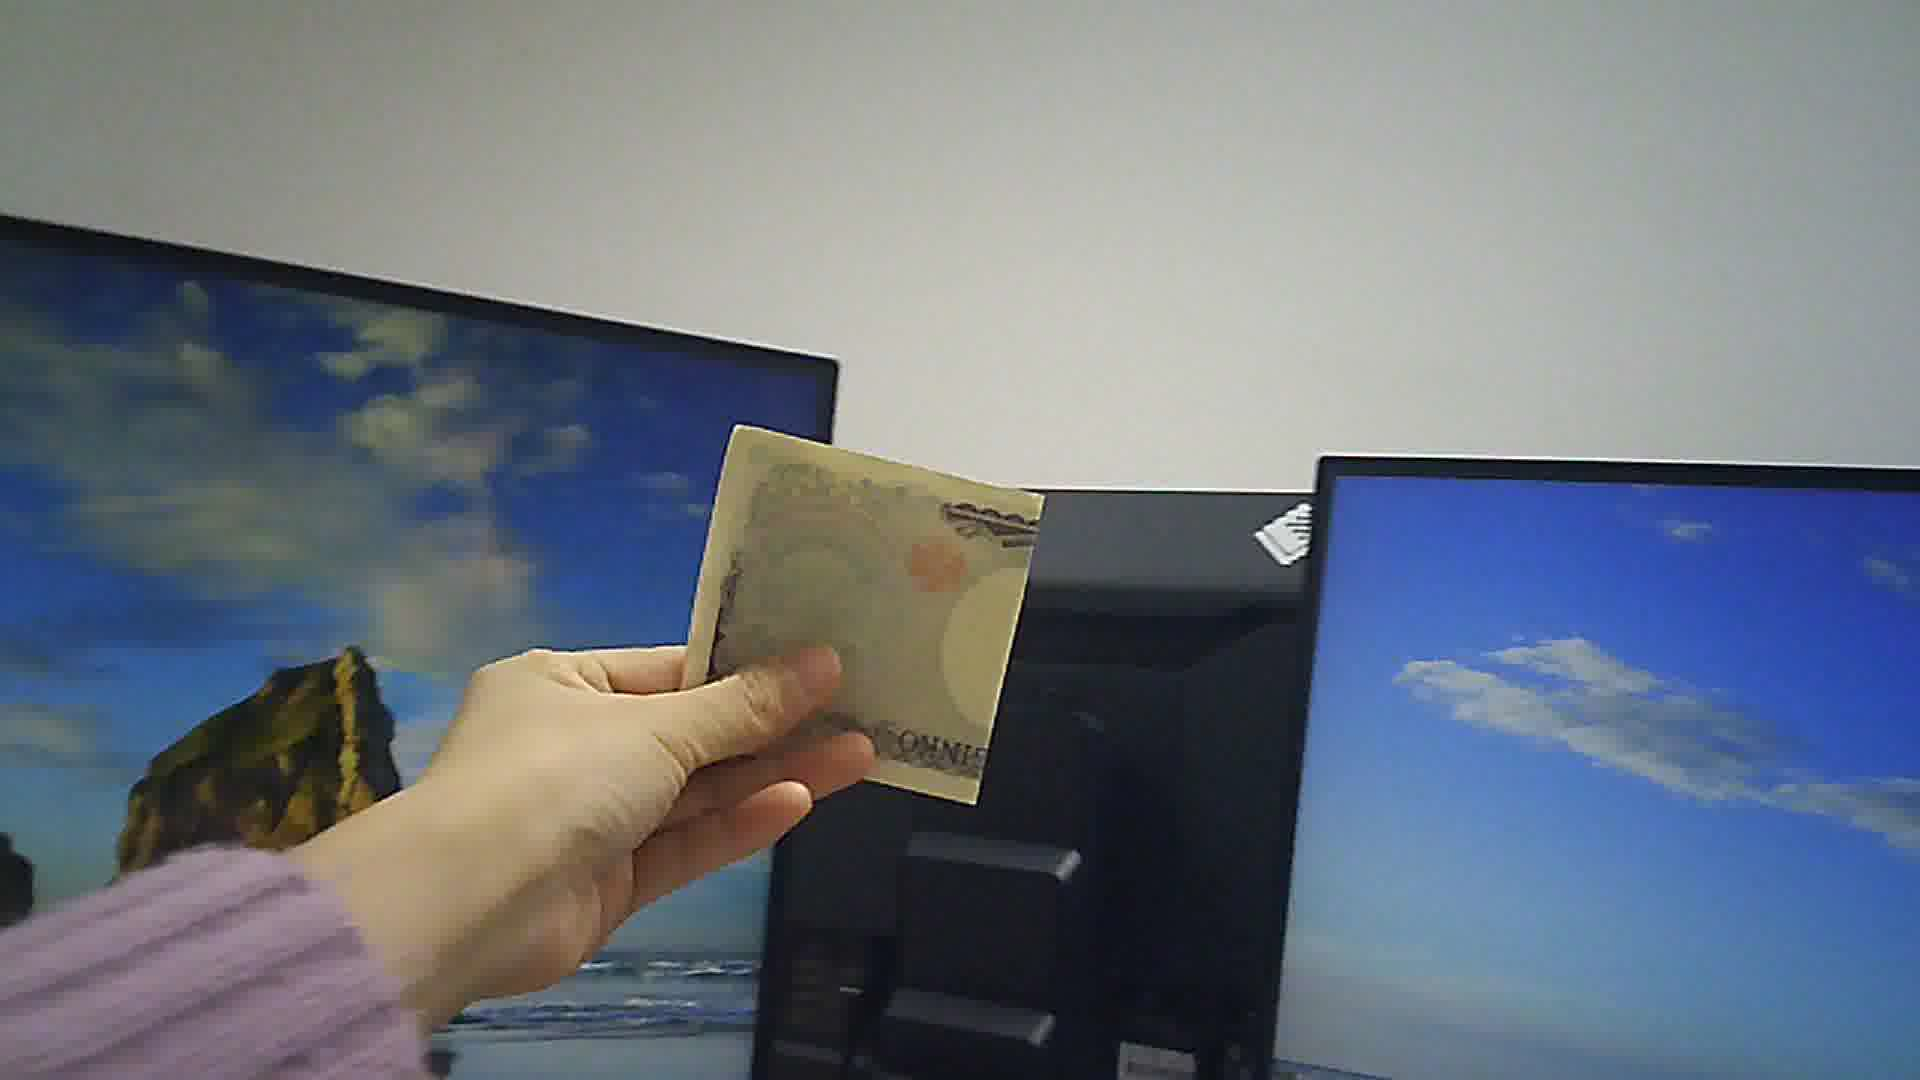5,000 Yen: (682, 415, 1042, 833)
